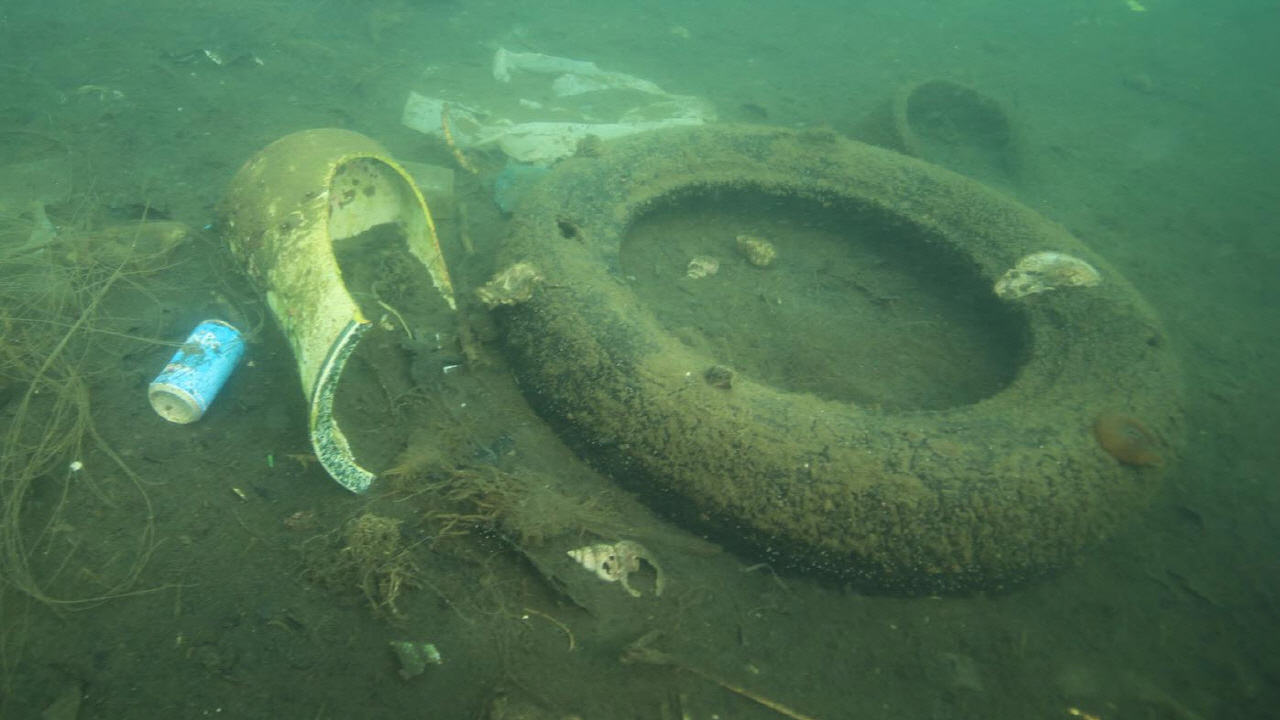tire: (492, 120, 1185, 594)
